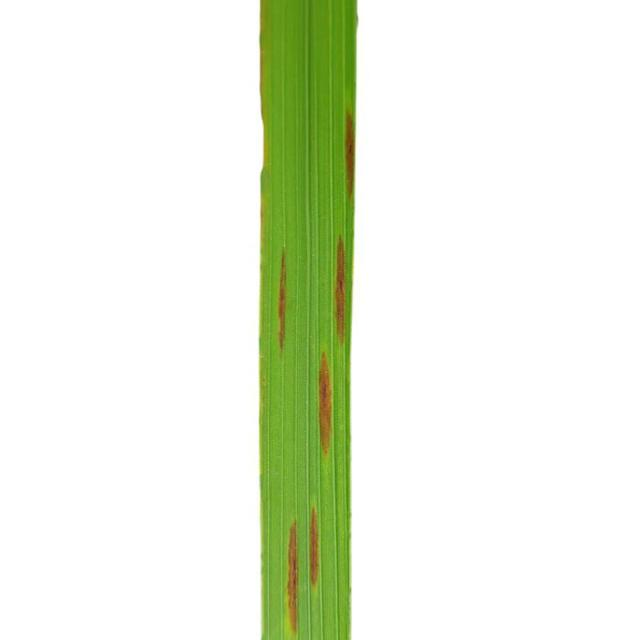Narrow brown: (236, 2, 404, 640)
